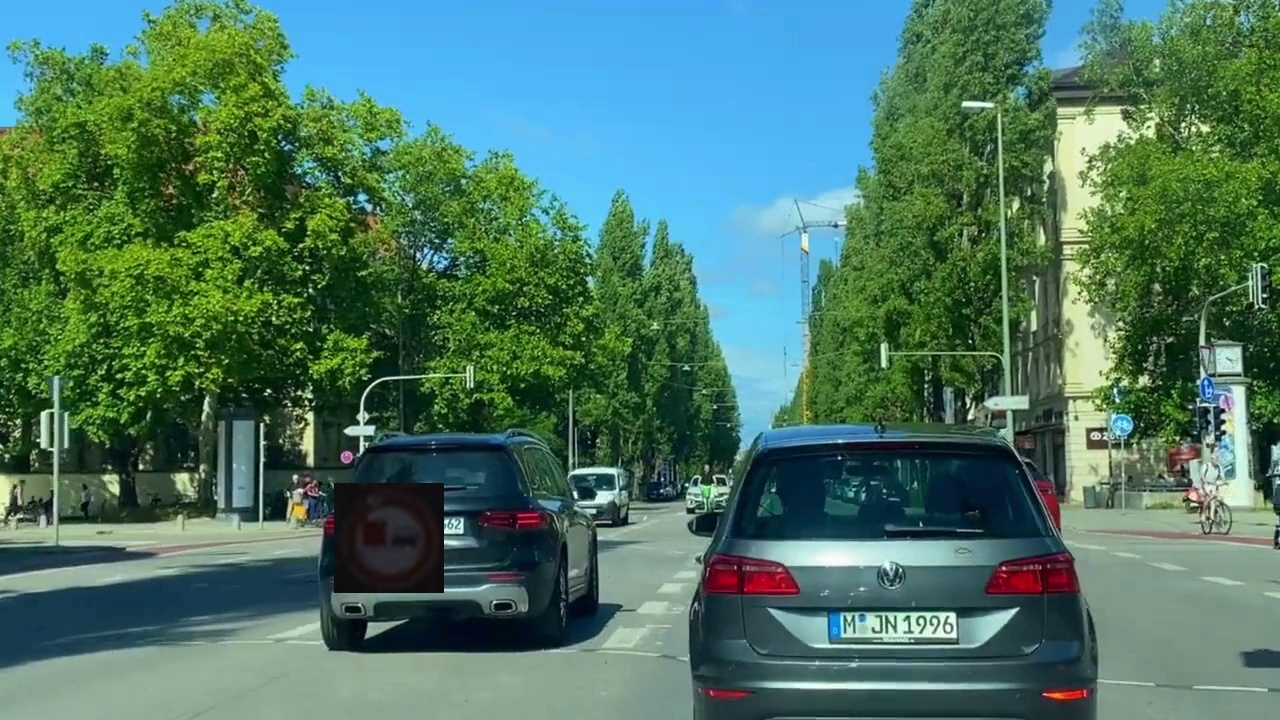No pass >3.5t: (334, 483, 444, 593)
